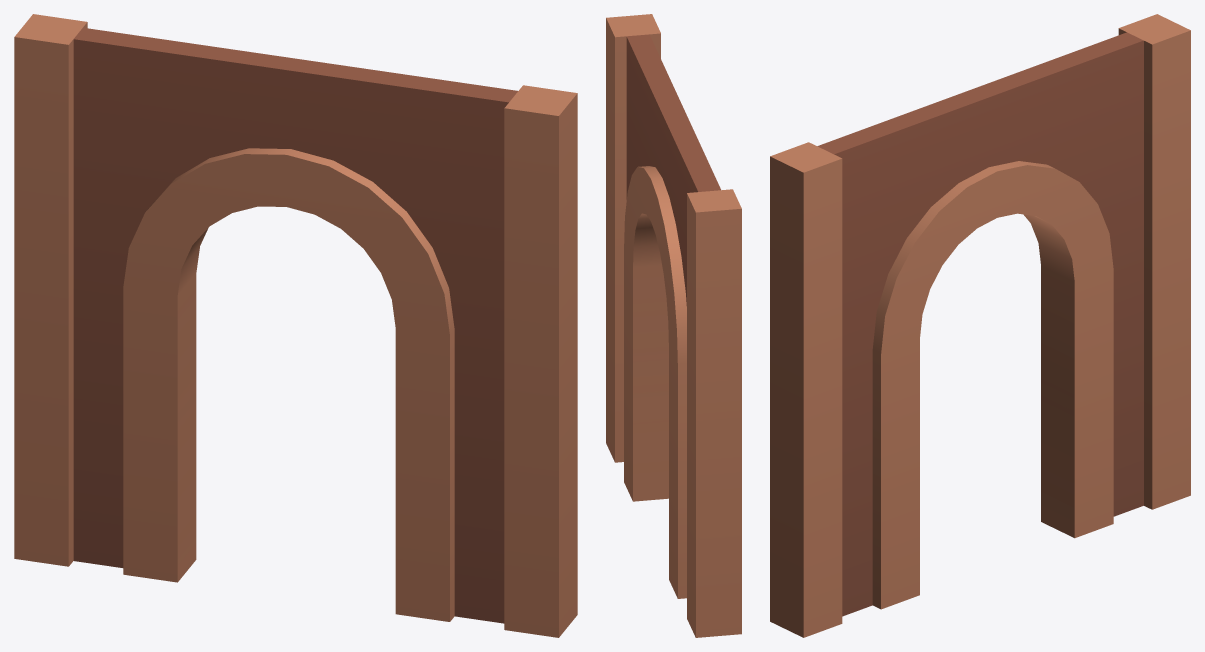
File: wall-wood-door.002_lev1.glb
The picture shows the model from 3 angles, left to right: view 1: azimuth 30°, elevation 25°; view 2: azimuth 150°, elevation 25°; view 3: azimuth 270°, elevation 25°; orthographic projection. The views are drawn at different scales.
Visible parts, largest first — view 1: wall-wood-door.002_lev1; view 2: wall-wood-door.002_lev1; view 3: wall-wood-door.002_lev1.
Boxes of the visible parts, box(x1,y1,x2,y2) form: wall-wood-door.002_lev1: box(14, 14, 577, 637); wall-wood-door.002_lev1: box(606, 14, 741, 637); wall-wood-door.002_lev1: box(770, 14, 1190, 637).
Size of the model in its own units: 3.1 by 4.23 by 3.47.
Materials: 1 (1 with a texture image).
